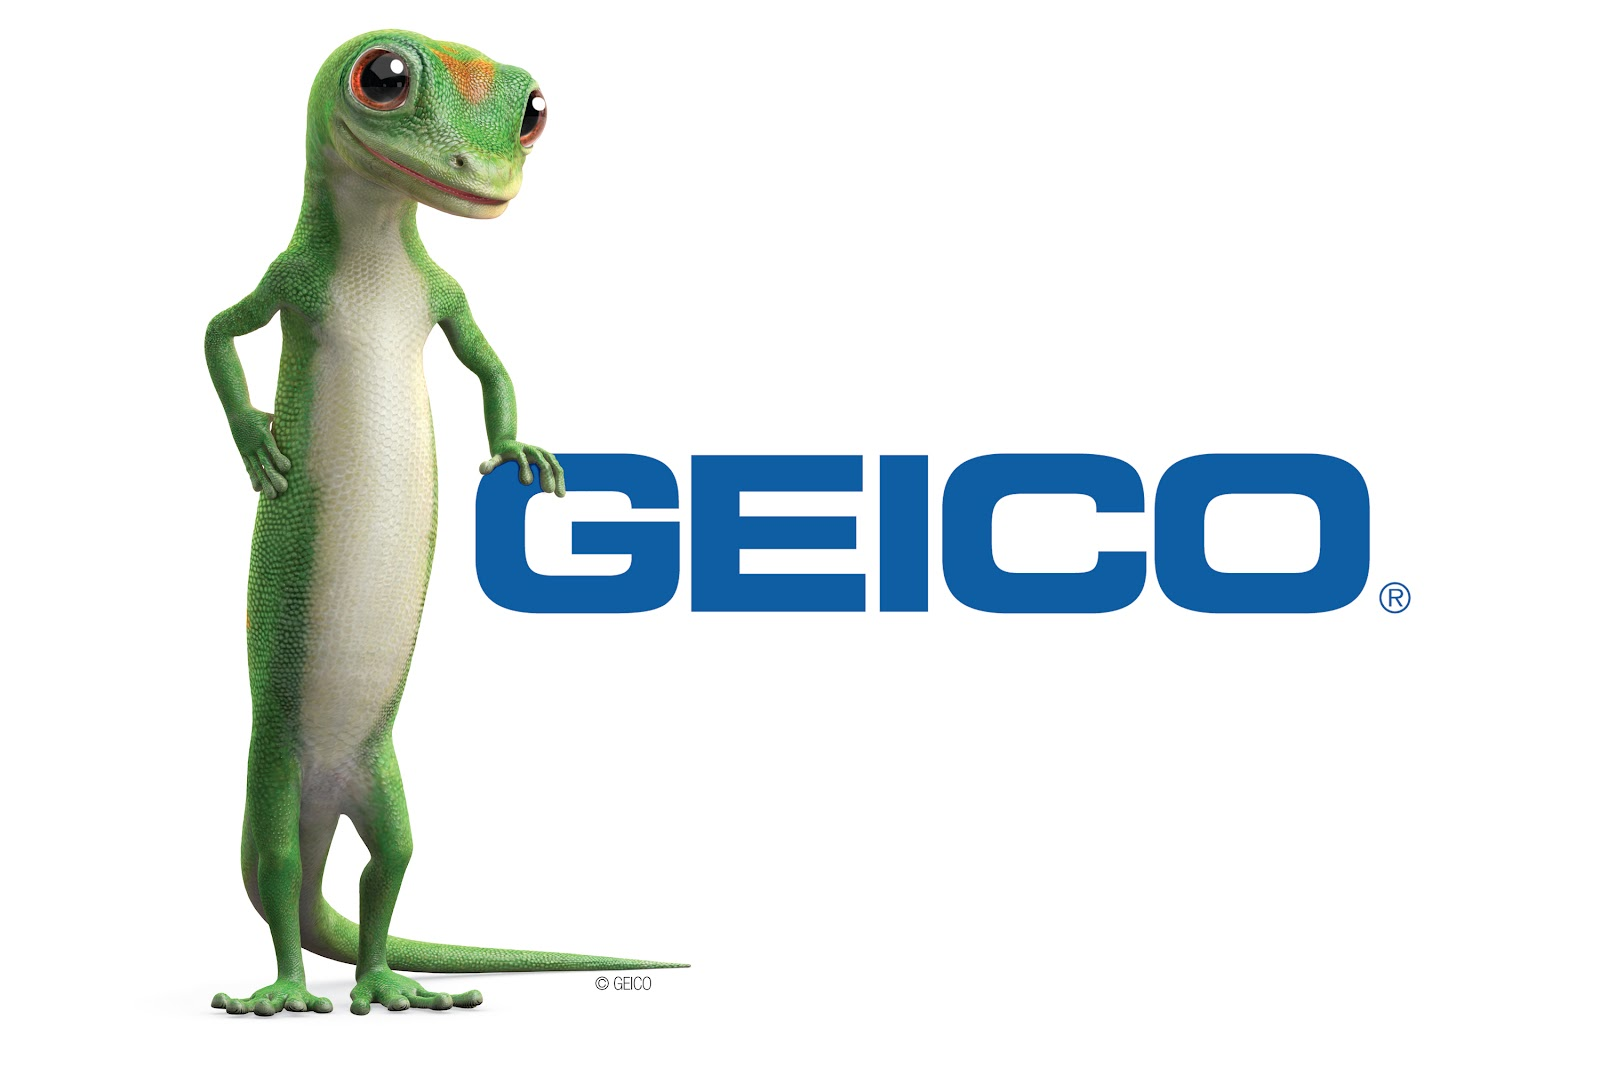Geico: (462, 448, 1462, 638)
